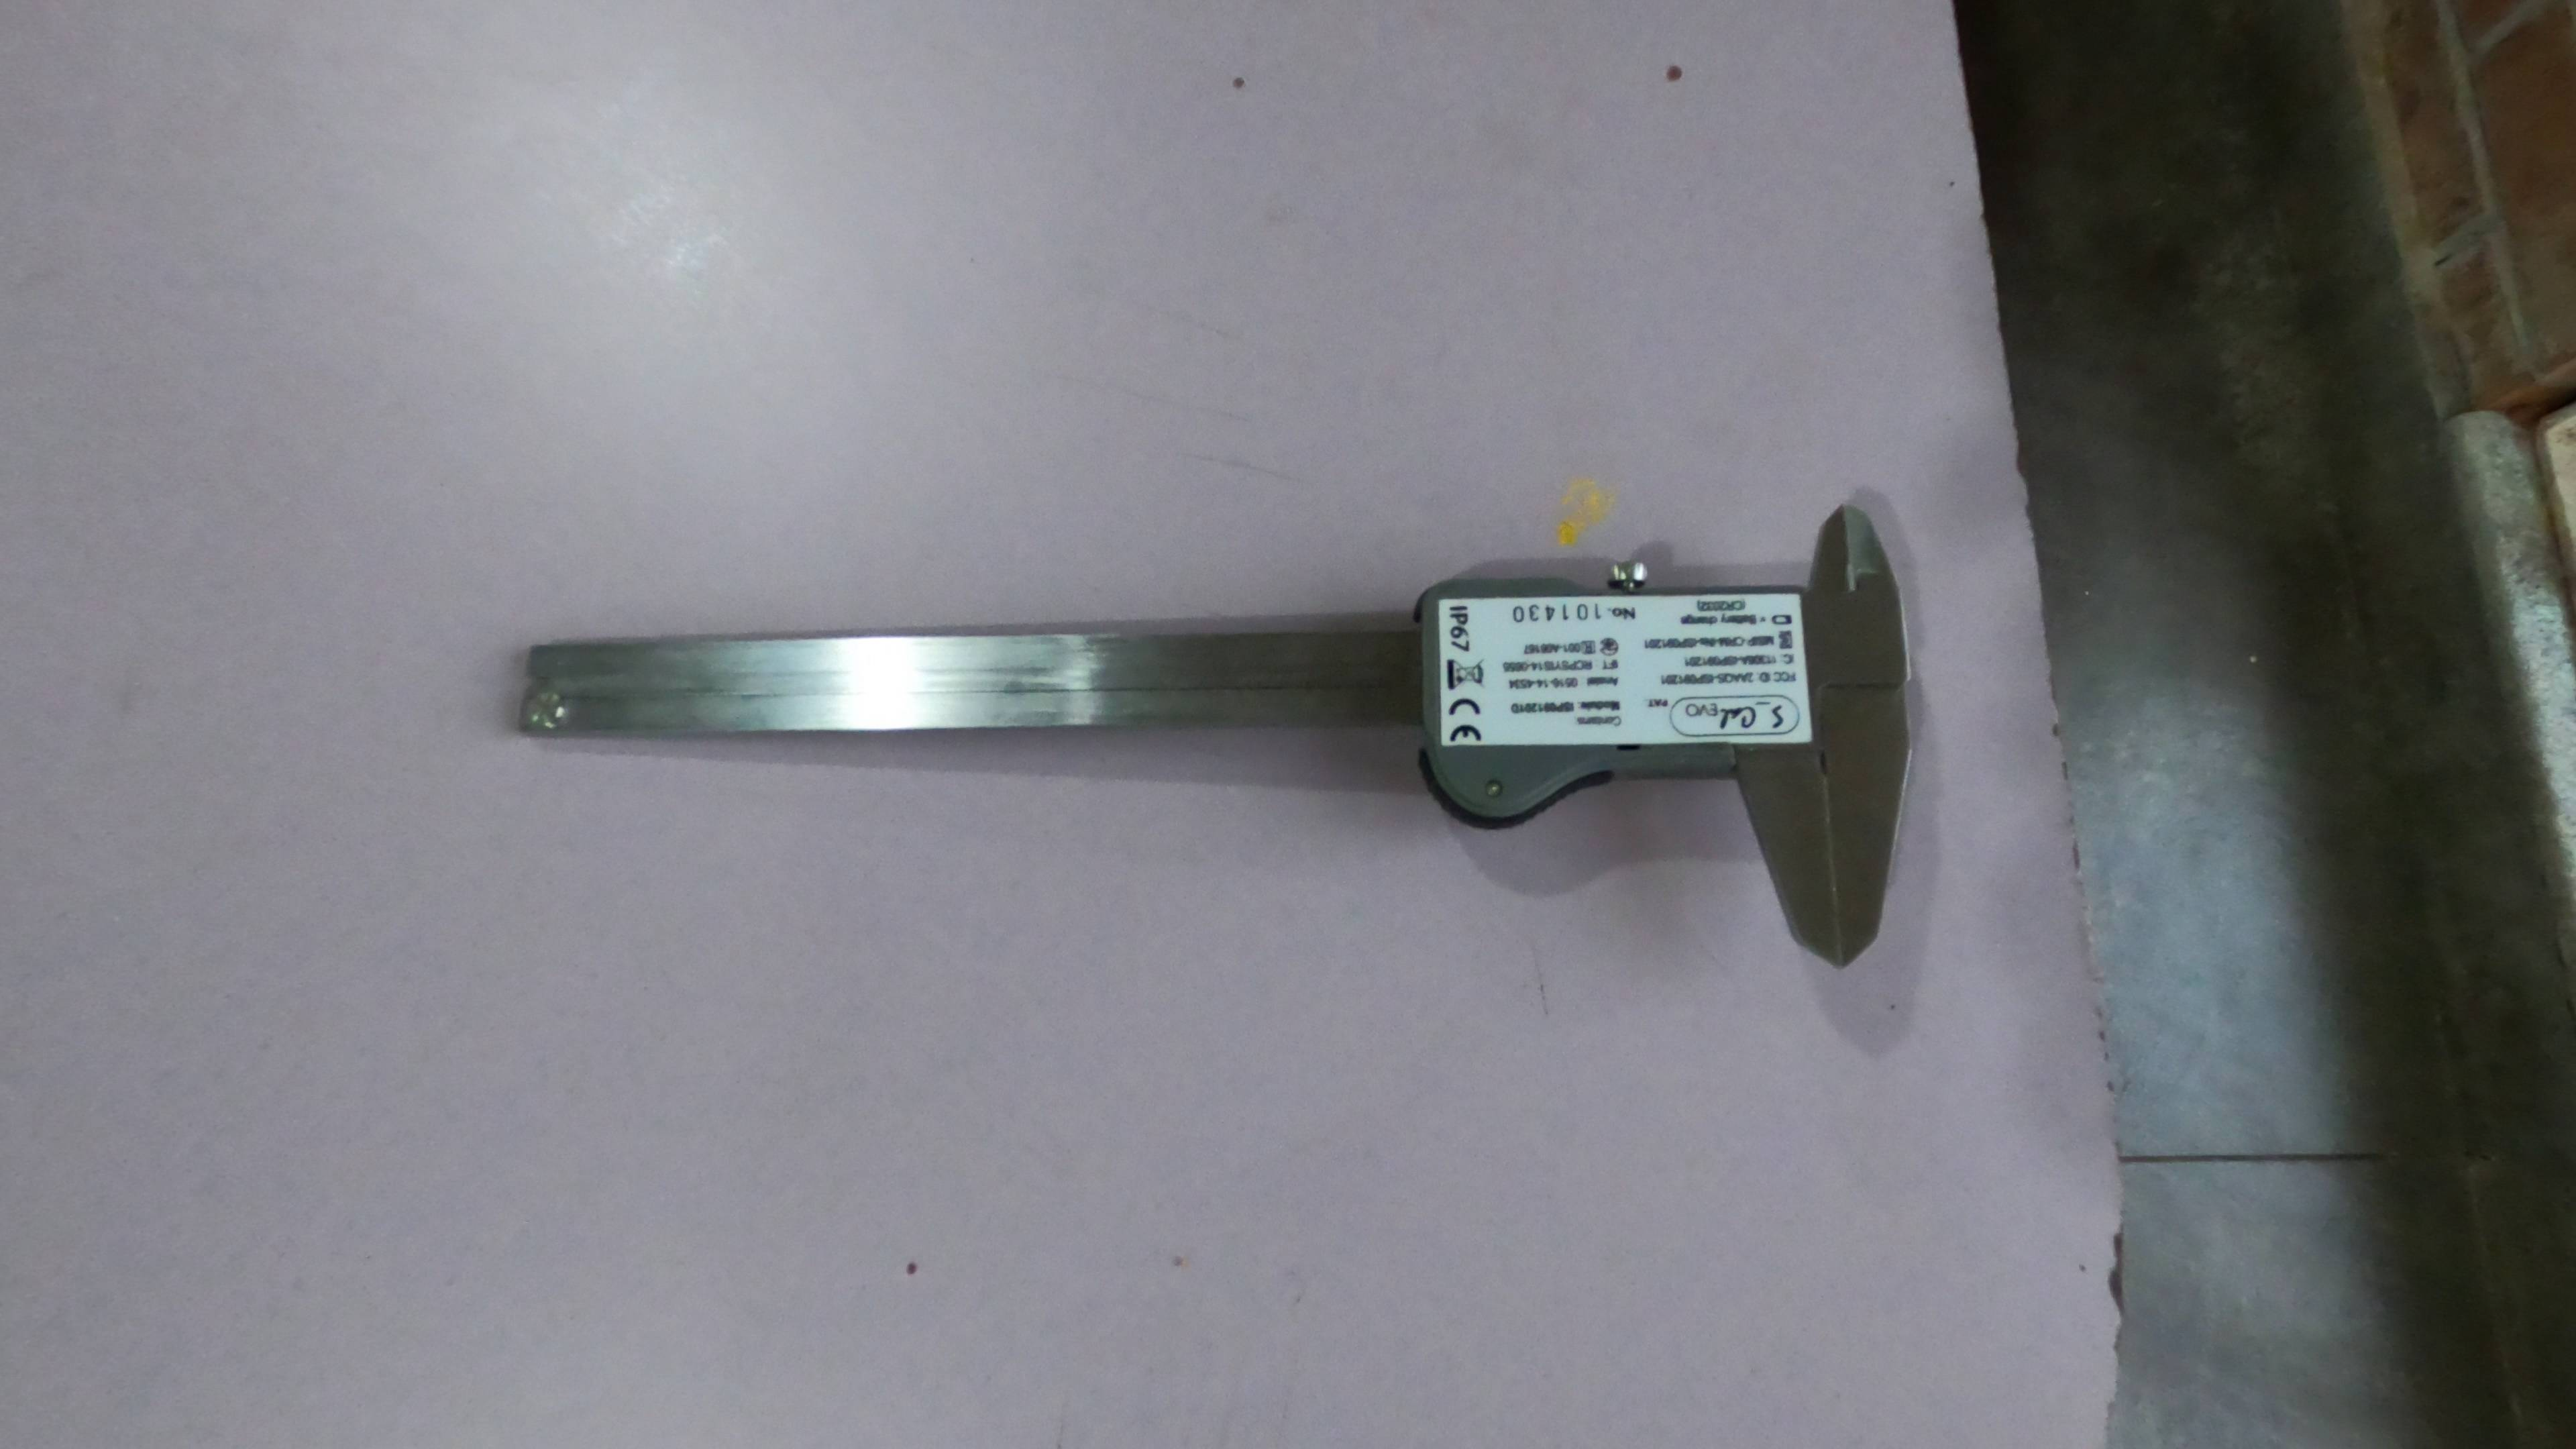vernier_caliper: (527, 495, 1932, 978)
